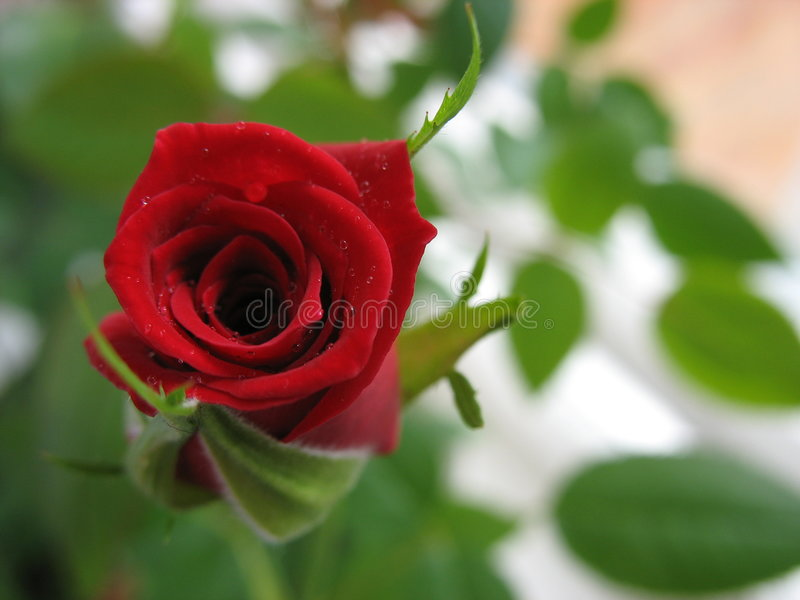RedRose: (106, 91, 465, 469)
